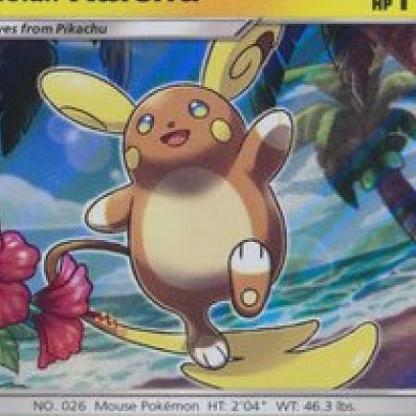Raichu: (1, 8, 416, 416)
